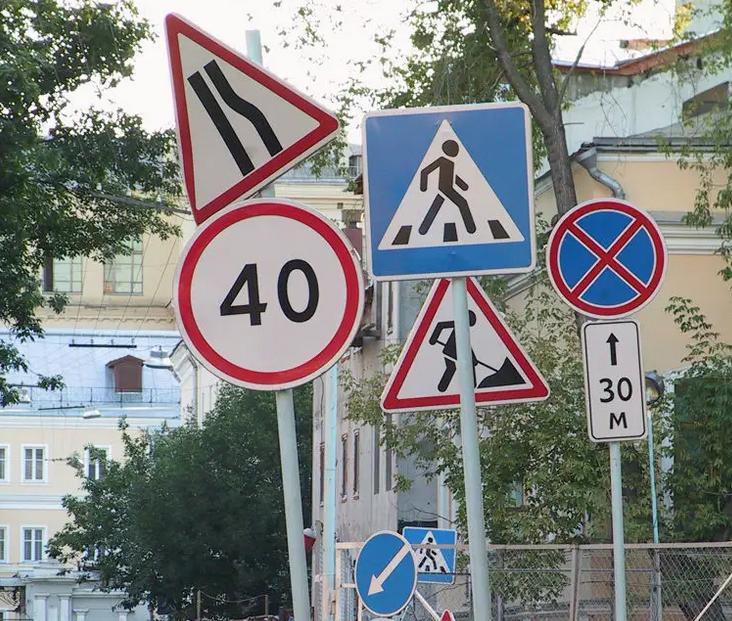obstructed_road_sign: (379, 276, 550, 412), (403, 527, 456, 584)
road_sign: (166, 12, 340, 225), (173, 197, 365, 390), (362, 102, 537, 281), (546, 198, 668, 319), (582, 320, 649, 439), (354, 531, 418, 616)
